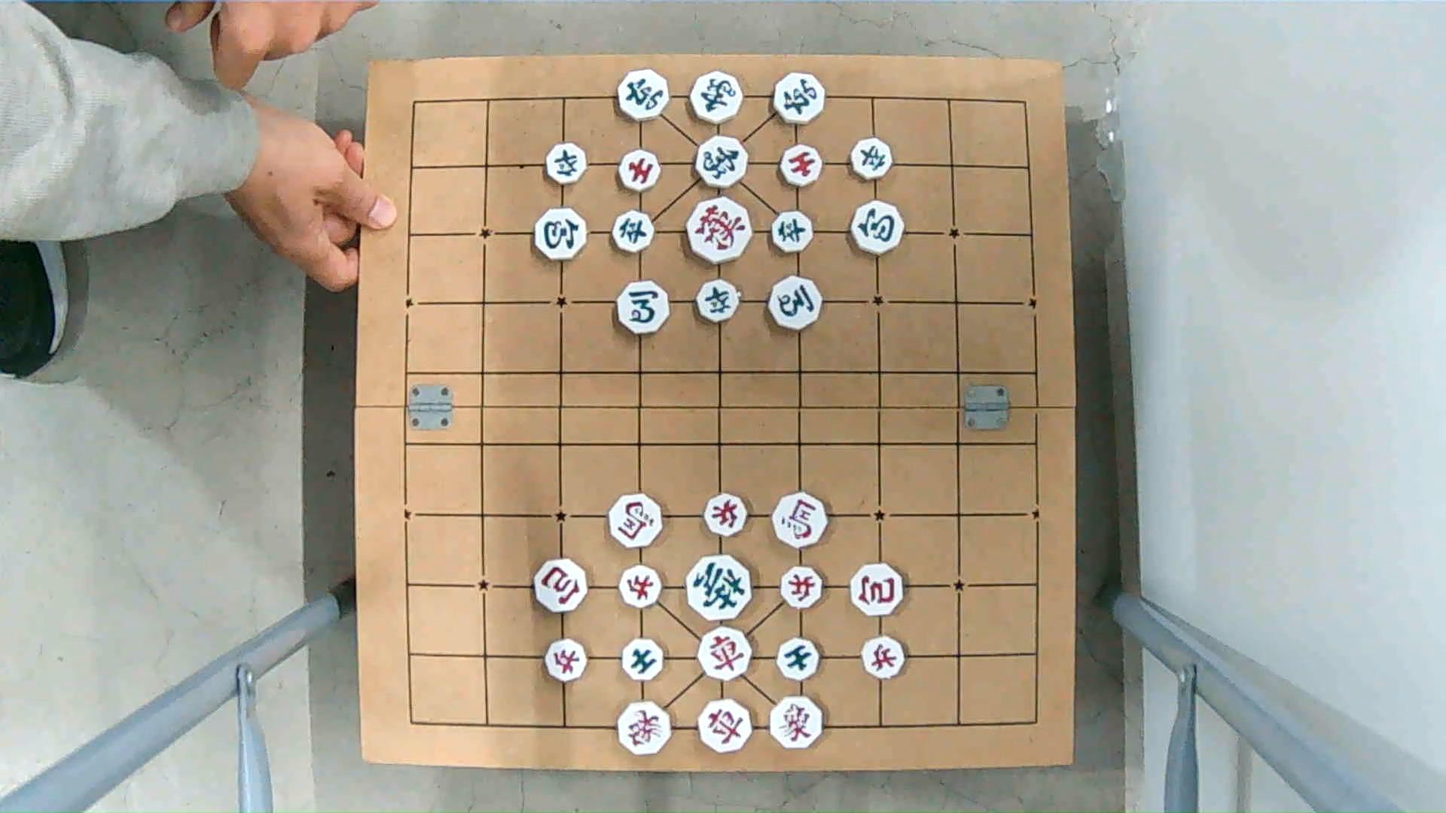cha_green: (770, 75, 828, 122), (618, 74, 676, 120)
cha_red: (694, 632, 755, 681), (694, 702, 755, 751)
jol_green: (697, 276, 741, 323), (851, 140, 893, 181), (772, 212, 815, 252), (543, 147, 589, 184), (614, 211, 655, 248)
jol_red: (778, 568, 828, 607), (859, 640, 908, 678), (541, 643, 590, 680), (618, 564, 660, 606), (706, 497, 746, 537)
ma_green: (767, 278, 826, 325), (616, 287, 674, 334)
ma_red: (772, 490, 831, 547), (604, 498, 666, 546)
po_green: (533, 210, 592, 259), (850, 204, 906, 254)
po_red: (530, 562, 590, 610), (850, 565, 904, 614)
sa_green: (776, 639, 825, 677), (619, 640, 667, 678)
sa_red: (776, 145, 825, 184), (617, 152, 664, 188)
sang_green: (693, 140, 752, 188), (685, 75, 743, 122)
sang_red: (767, 698, 827, 748), (613, 704, 675, 752)
wang_green: (688, 558, 750, 616)
wang_red: (687, 201, 750, 255)
